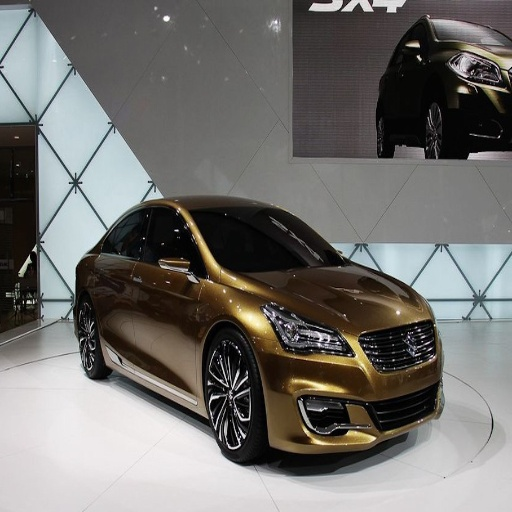front_bumper: (257, 323, 444, 453), (446, 78, 502, 139)
front_right_door: (135, 205, 202, 390)
front_right_light: (263, 303, 350, 355), (447, 47, 499, 85)
